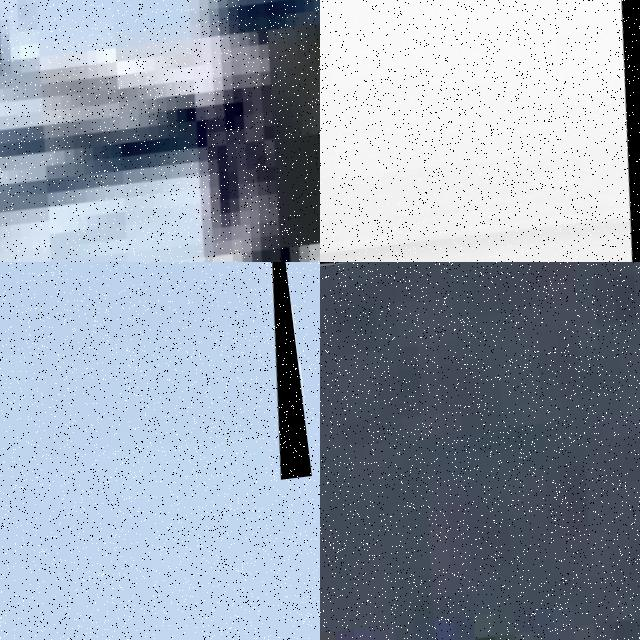drone: (320, 262, 640, 640), (0, 262, 311, 545), (0, 0, 320, 262), (320, 0, 640, 262)
